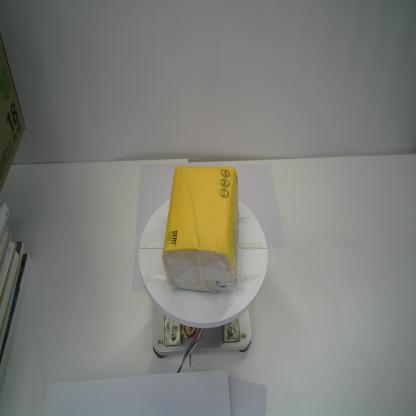Tissue: (162, 161, 240, 296)
